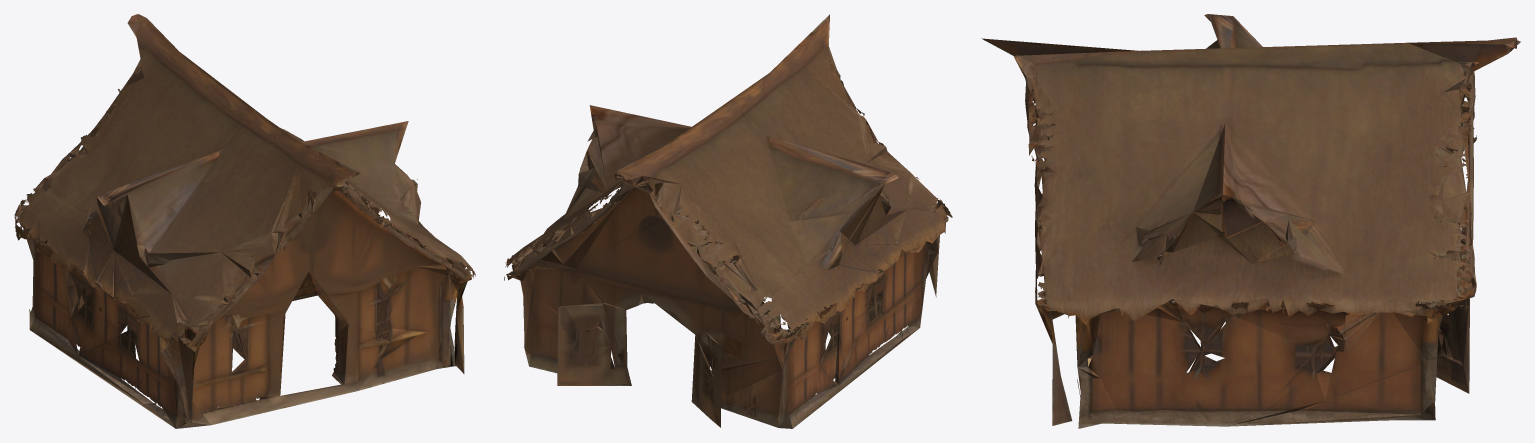
Rendered from house__viking-hut_norse.glb.
The picture shows the model from 3 angles, left to right: view 1: azimuth 30°, elevation 25°; view 2: azimuth 150°, elevation 25°; view 3: azimuth 270°, elevation 25°; orthographic projection. The views are drawn at different scales.
Size of the model in its own units: 1.61 by 1.27 by 1.99.
1 material, 1 textured.
